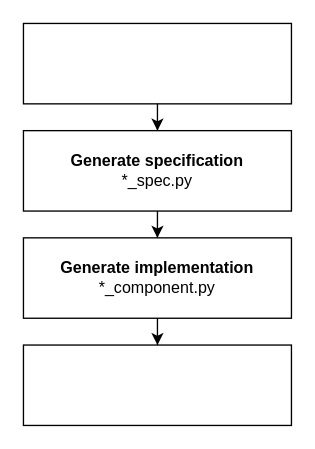
Some shapes in this 315 by 449 pixel diagram are drawn without their labels. Each missing label, with the box of its shape:
Generate component YAML component.yaml: (22, 344, 291, 425)
Source of truth ACK CRD YAML: (22, 22, 291, 104)
